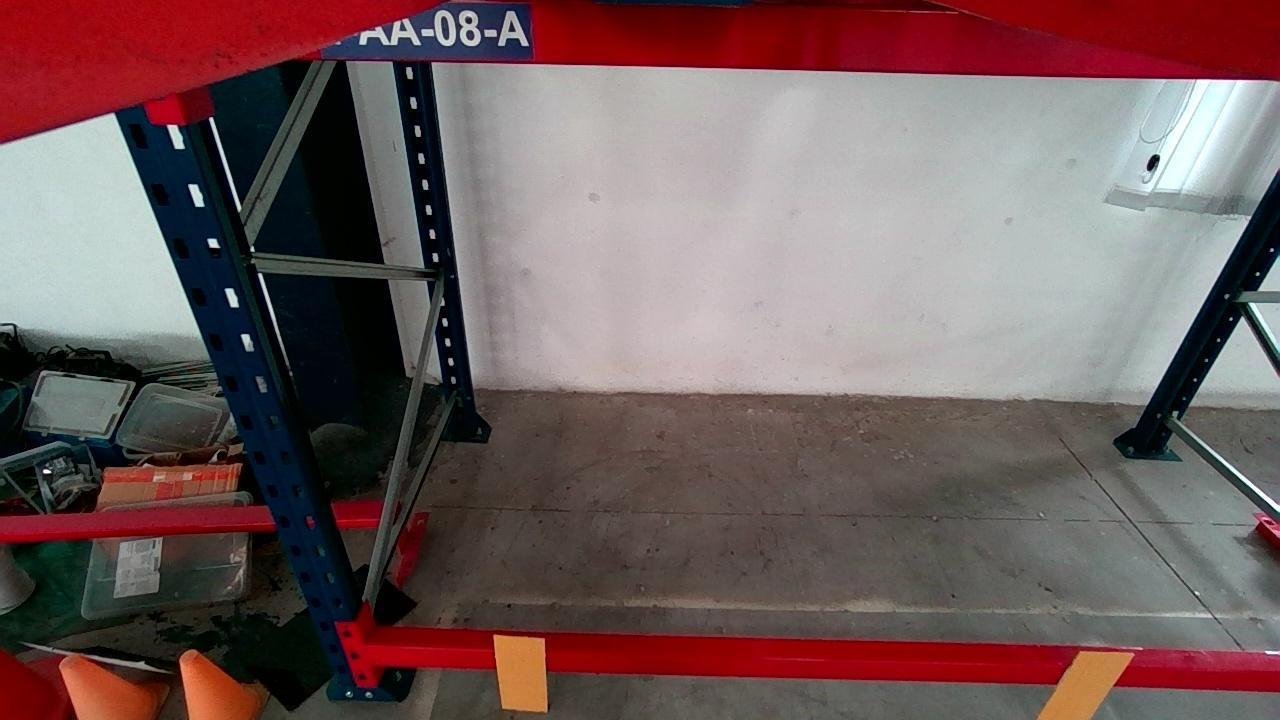h_rack: (307, 0, 1249, 77), (366, 645, 1280, 694)
orange_strip: (1042, 649, 1136, 717), (490, 638, 549, 710)
